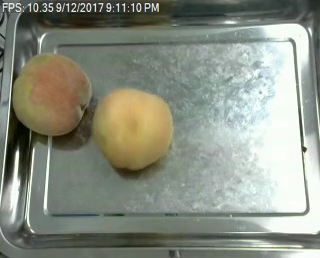Peach: (10, 51, 91, 136), (91, 87, 172, 171)
